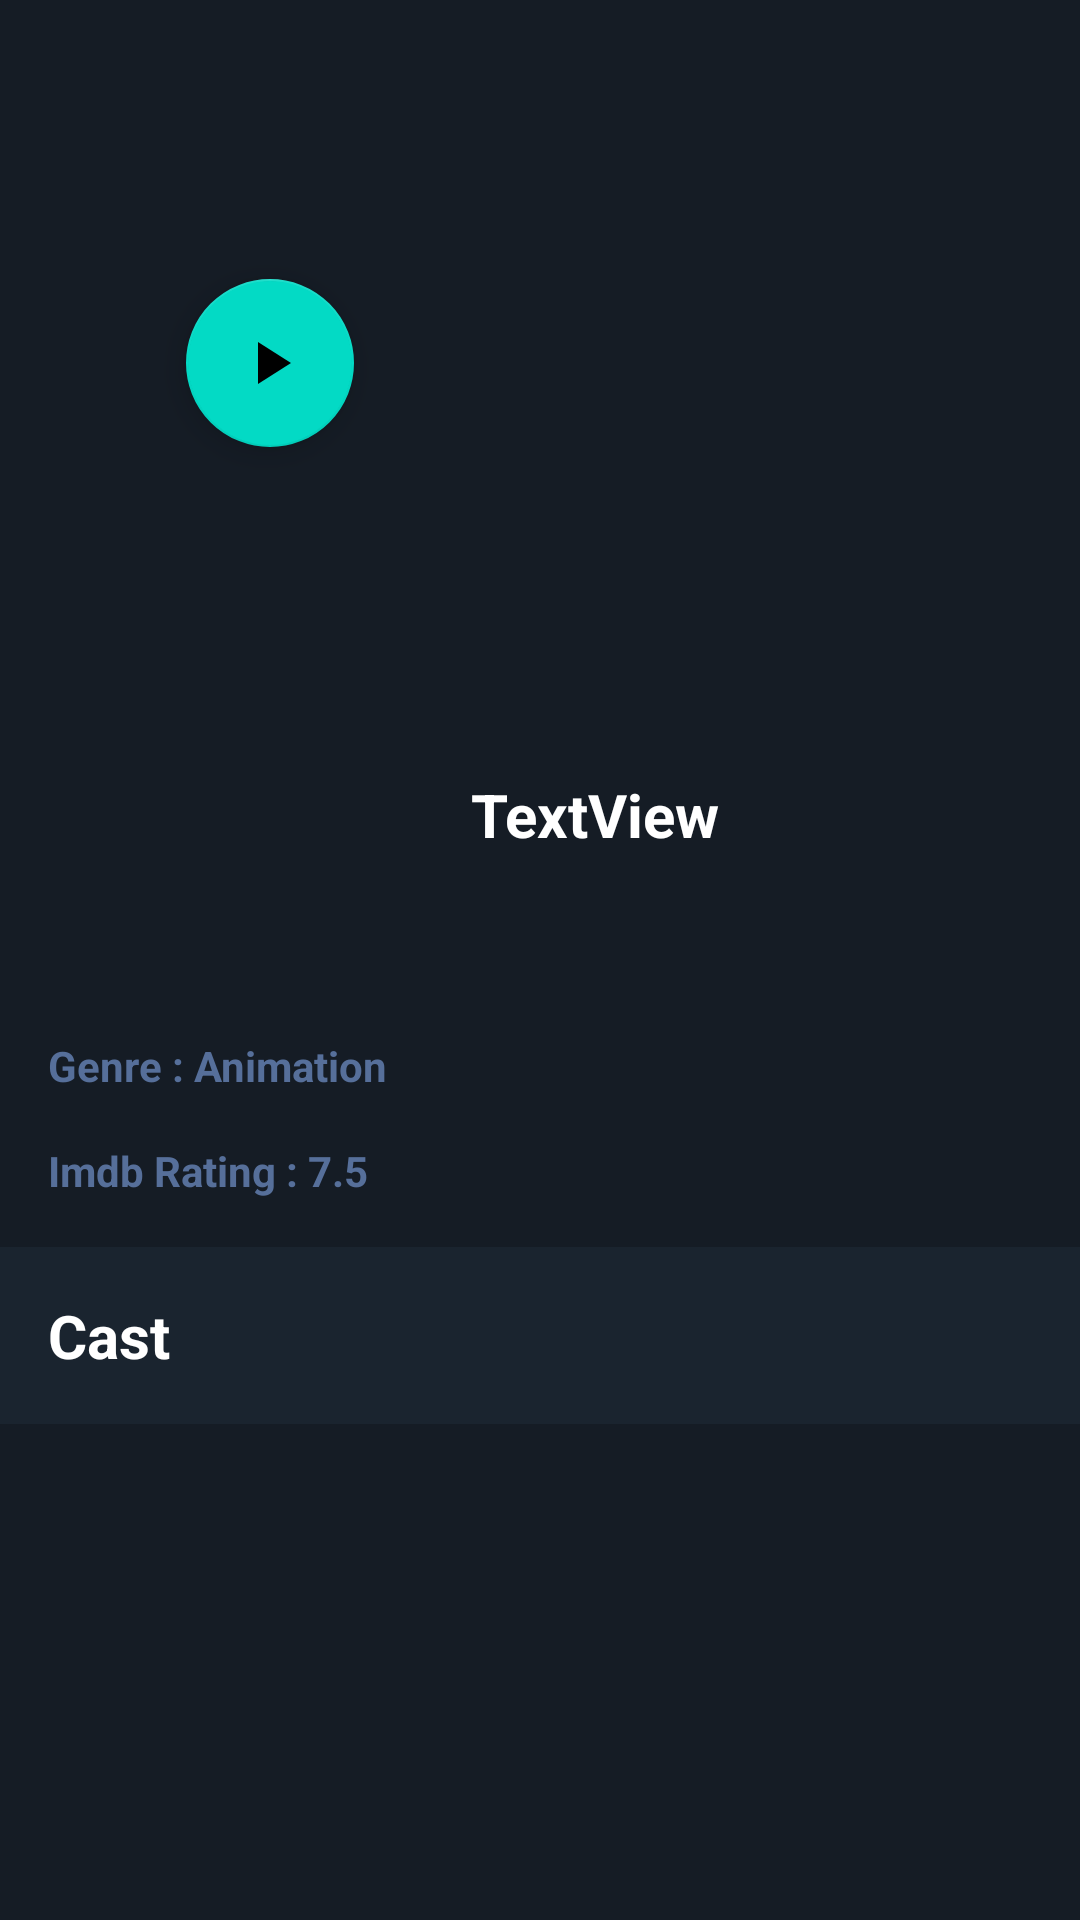

Icons on this 1080 x 1920 Android screen, each with the point to tap as [x,y]:
play arrow: [270,363]
